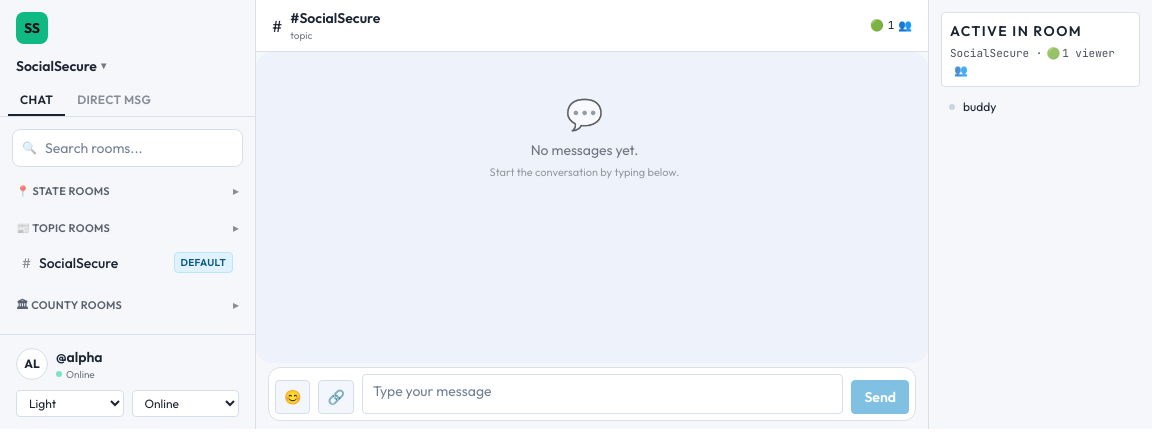
Test: Chat zip room indicator › opens a user context menu with requested actions on right click
Right-click the list item "buddy" at (973,106), box [949,99,996,114]
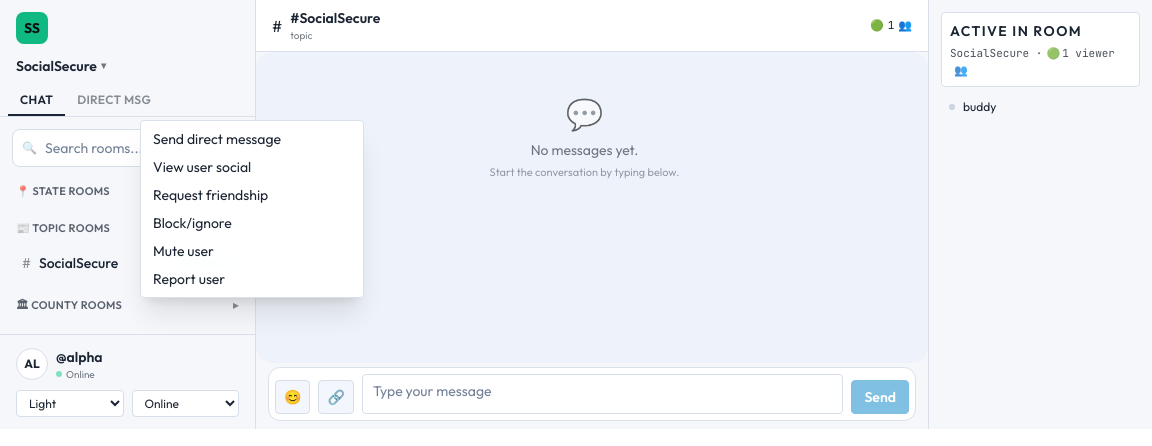
Expected: the text "Send direct message" is shown, [145,125,359,153]
Expected: the text "View user social" is shown, [145,153,359,181]
Expected: the text "Request friendship" is shown, [145,181,359,209]
